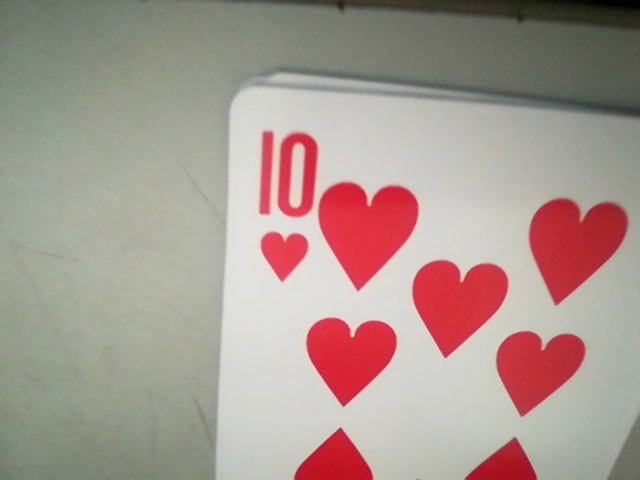hx 10: (254, 130, 316, 283)
